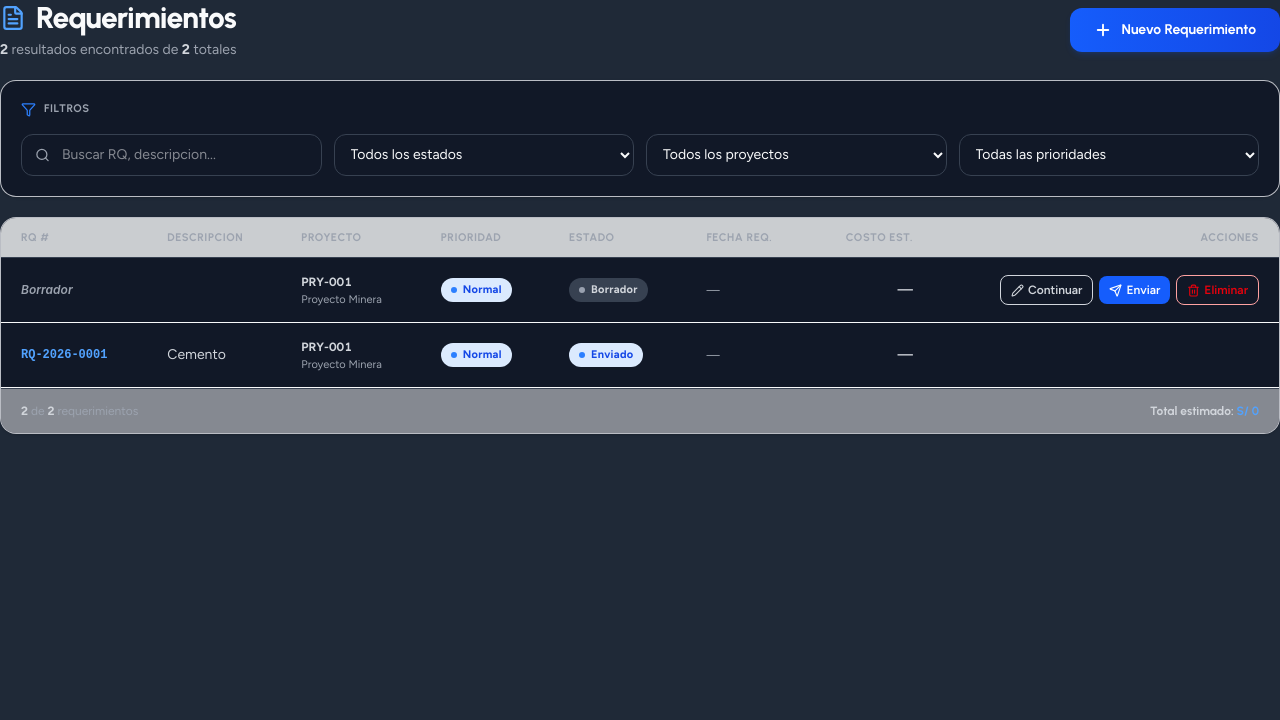
RequestListPage — borradores (SYSPCC-031) › si no se puede eliminar muestra el error del servidor
This screenshot has width=1280, height=720.
Click the button with aria-label "Eliminar el borrador" at (1218, 290), box left=1176, top=275, right=1259, bottom=305
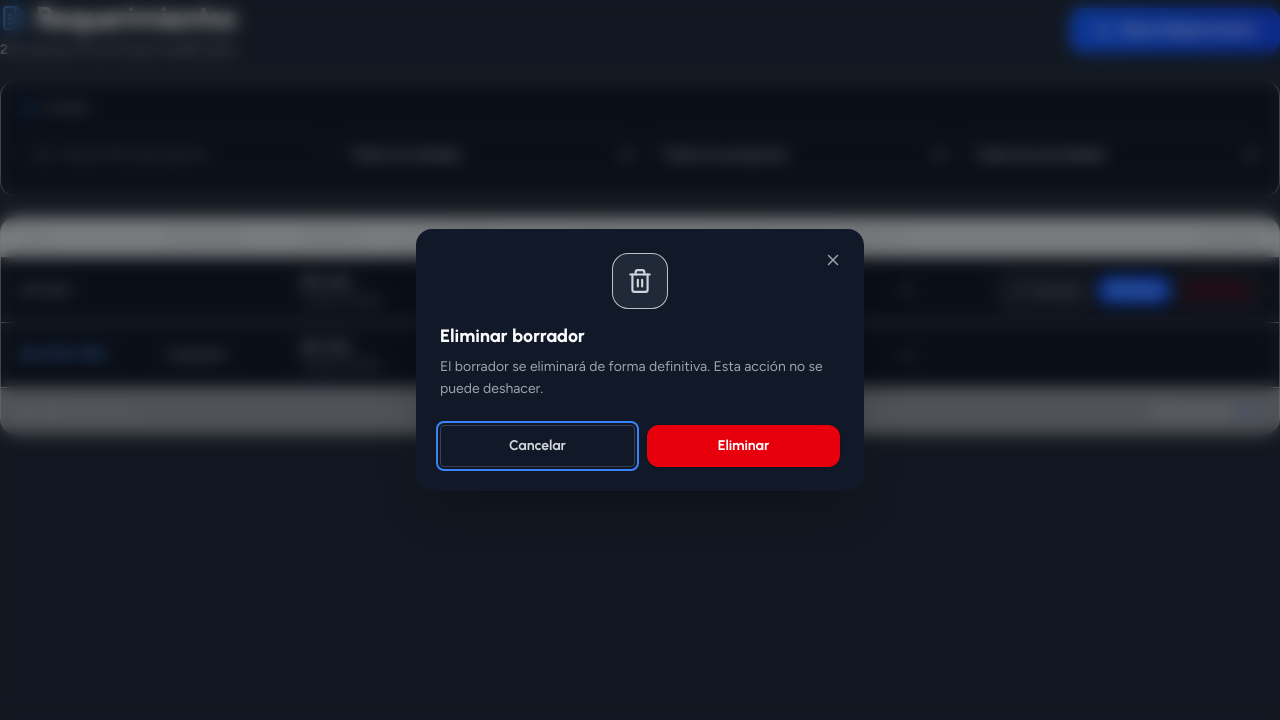
Click the button "Eliminar" at (744, 446), box left=647, top=425, right=840, bottom=467
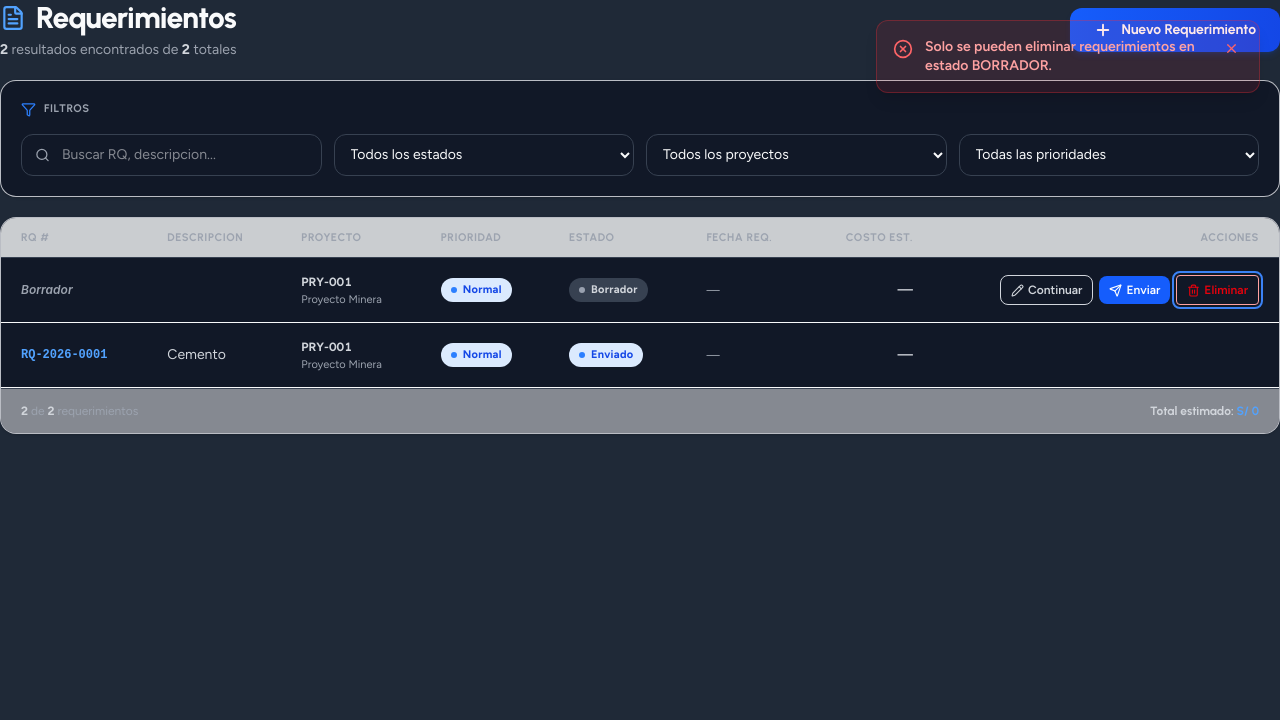
Result: the text "Solo se pueden eliminar requerimientos en estado BORRADOR." is shown at left=925, top=37, right=1208, bottom=76
